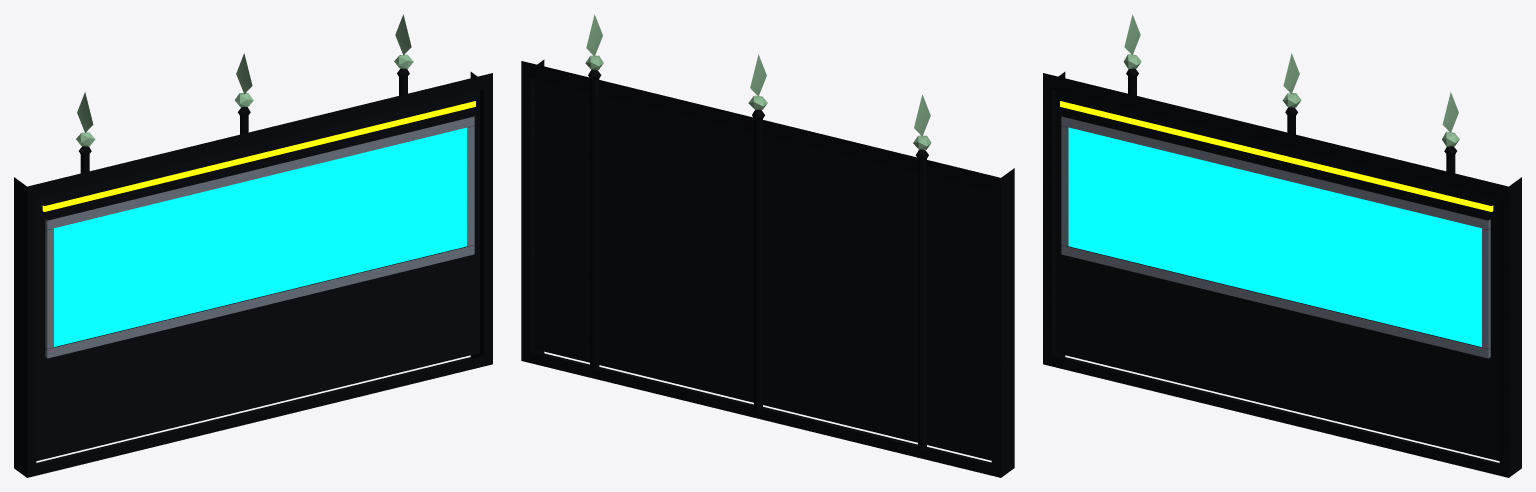
File: v3_branch_backdrop.glb
The picture shows the model from 3 angles, left to right: view 1: azimuth 30°, elevation 25°; view 2: azimuth 150°, elevation 25°; view 3: azimuth 330°, elevation 25°; orthographic projection. The views are drawn at different scales.
Parts seen in each view (by area): view 1: Wall_Core, Screen_Band, Wall_Frame, Screen_Bezel, Court_Line_LED, Fork_Leaves, Branch_Post; view 2: Wall_Core, Wall_Frame, Branch_Post, Fork_Leaves; view 3: Wall_Core, Screen_Band, Wall_Frame, Screen_Bezel, Court_Line_LED, Fork_Leaves, Branch_Post.
Part boxes in pixels (bbox=[...]): Wall_Core: bbox=[36, 90, 479, 461]; Screen_Band: bbox=[53, 127, 467, 346]; Wall_Frame: bbox=[14, 72, 492, 477]; Screen_Bezel: bbox=[45, 116, 474, 358]; Court_Line_LED: bbox=[42, 101, 475, 211]; Fork_Leaves: bbox=[76, 14, 413, 146]; Branch_Post: bbox=[79, 68, 409, 173]; Wall_Core: bbox=[534, 79, 991, 460]; Wall_Frame: bbox=[521, 59, 1014, 477]; Branch_Post: bbox=[588, 69, 928, 450]; Fork_Leaves: bbox=[585, 14, 931, 149]; Wall_Core: bbox=[1056, 90, 1499, 461]; Screen_Band: bbox=[1068, 127, 1482, 346]; Wall_Frame: bbox=[1043, 72, 1521, 477]; Screen_Bezel: bbox=[1061, 116, 1490, 358]; Court_Line_LED: bbox=[1060, 101, 1493, 211]; Fork_Leaves: bbox=[1123, 14, 1459, 146]; Branch_Post: bbox=[1126, 68, 1456, 173].
Size of what is drawn, in the model's own units: 4.1 by 3 by 0.38.
Materials: 6 (3 with a texture image).
